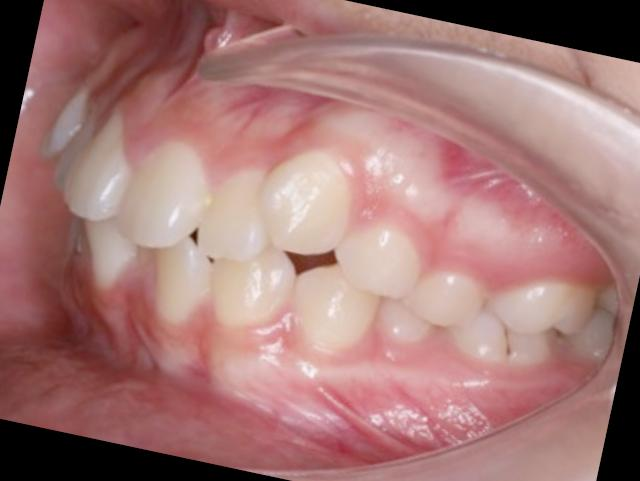canine class II 1/4: (198, 122, 413, 368)
molar class III 1/2: (440, 251, 606, 402)
